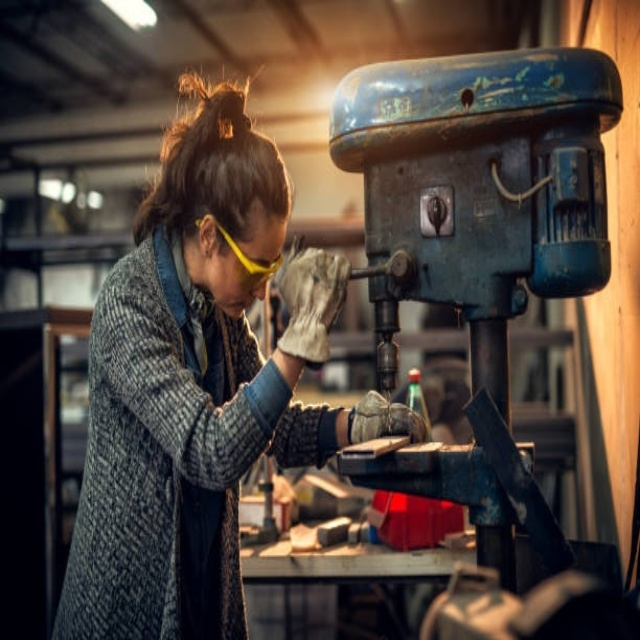Gafas: (196, 215, 284, 284)
Guantes: (274, 241, 353, 362), (349, 390, 427, 446)
Sin_mascara: (223, 295, 260, 322)
